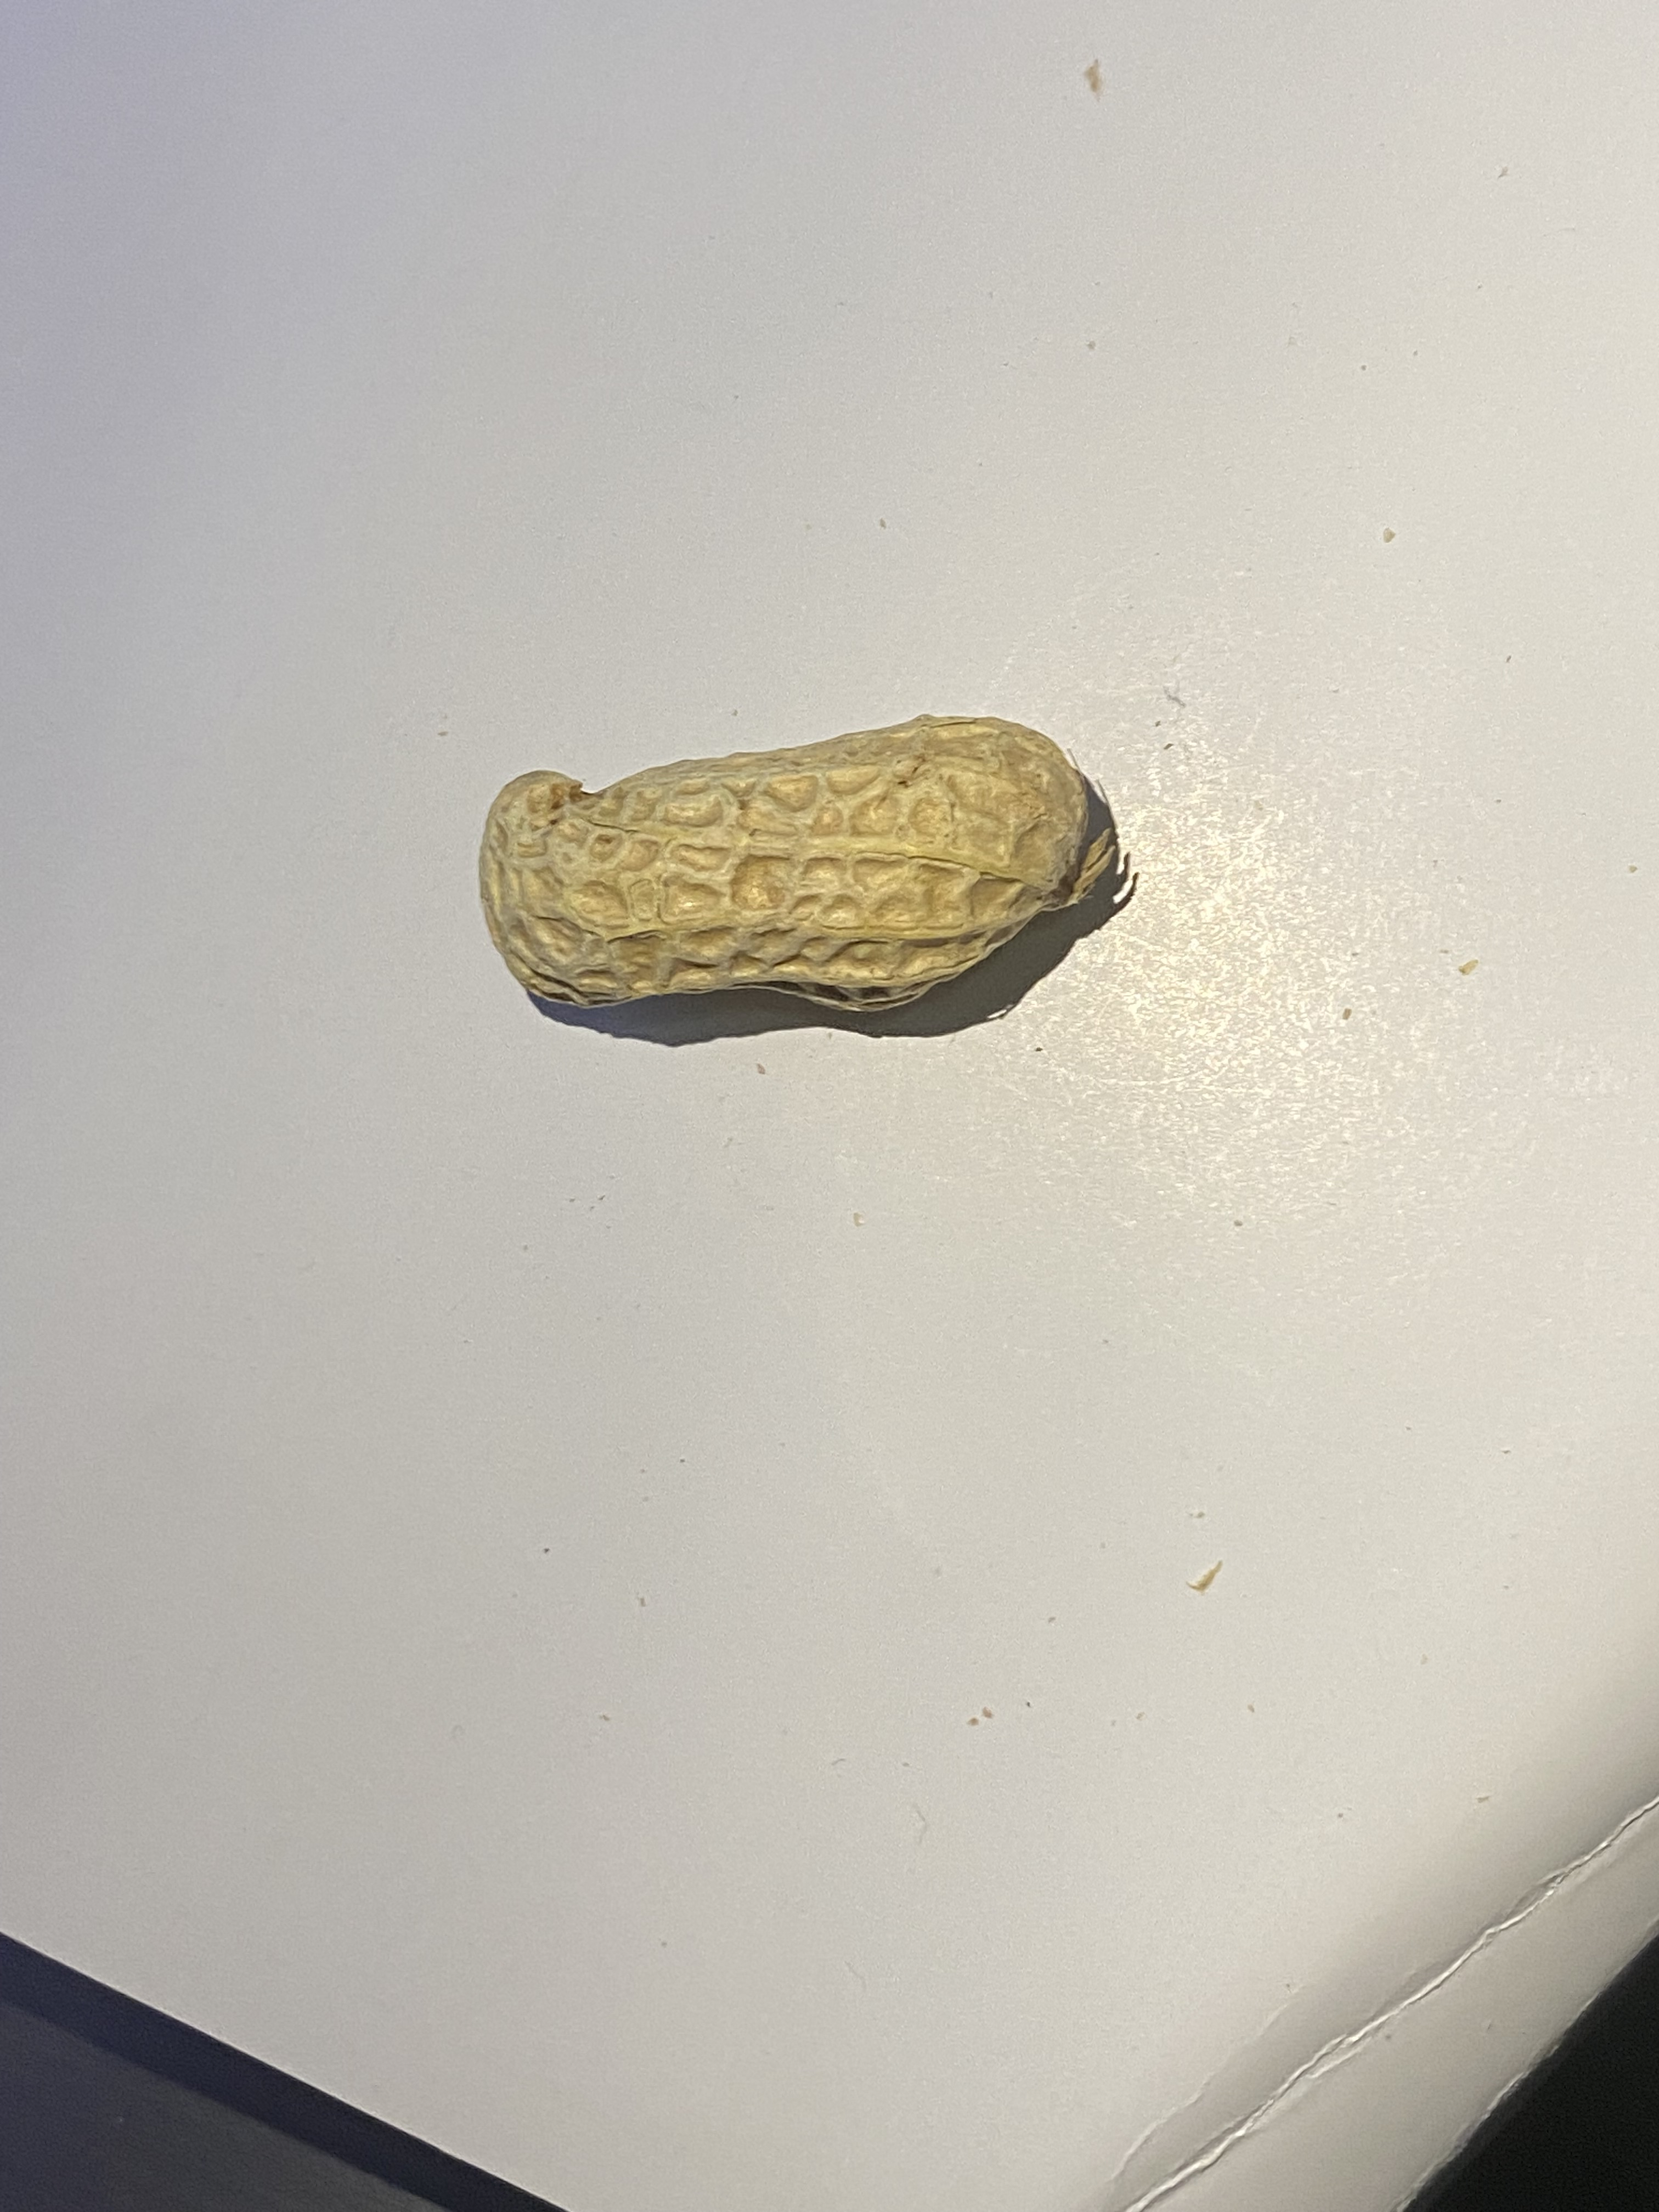kacang2: (467, 705, 1154, 1059)
